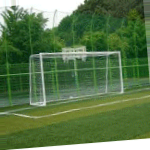goals: (27, 51, 126, 106)
